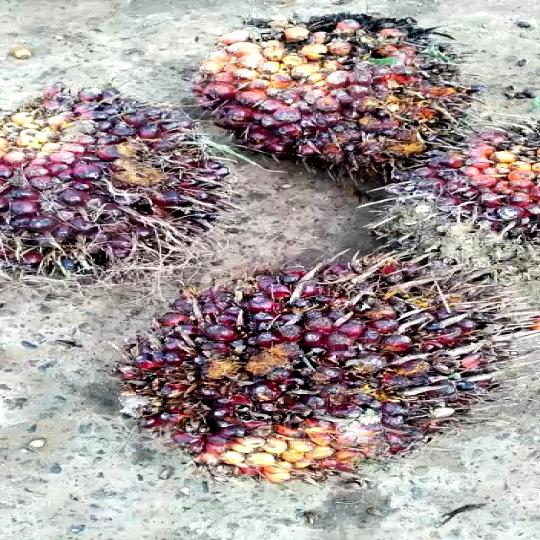masak: (116, 230, 506, 480), (185, 6, 507, 188), (0, 80, 255, 286)
